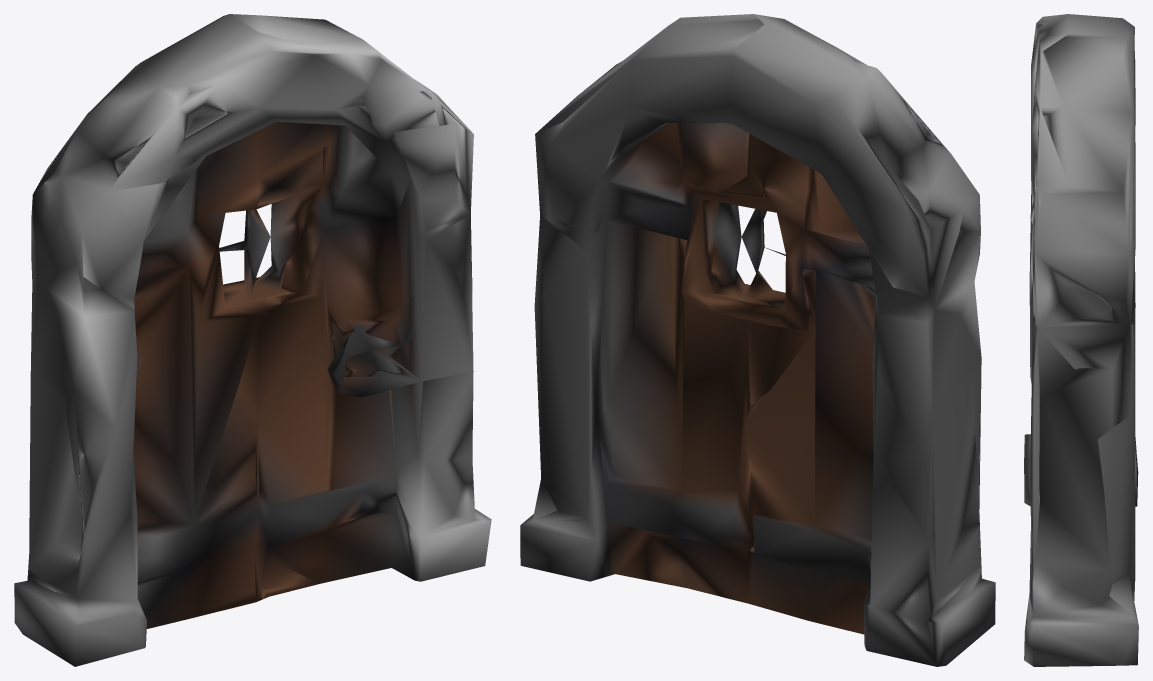
File: gen3d-dungeon-door-lod1.glb
The picture shows the model from 3 angles, left to right: view 1: azimuth 30°, elevation 25°; view 2: azimuth 150°, elevation 25°; view 3: azimuth 270°, elevation 25°; orthographic projection. The views are drawn at different scales.
Visible parts, largest first — view 1: part_0; view 2: part_0; view 3: part_0.
Part boxes in pixels (x1,y1,x2,y2): part_0: [14, 14, 491, 666]; part_0: [520, 14, 995, 666]; part_0: [1024, 14, 1138, 666].
Size of the model in its own units: 0.777 by 1 by 0.1922.
